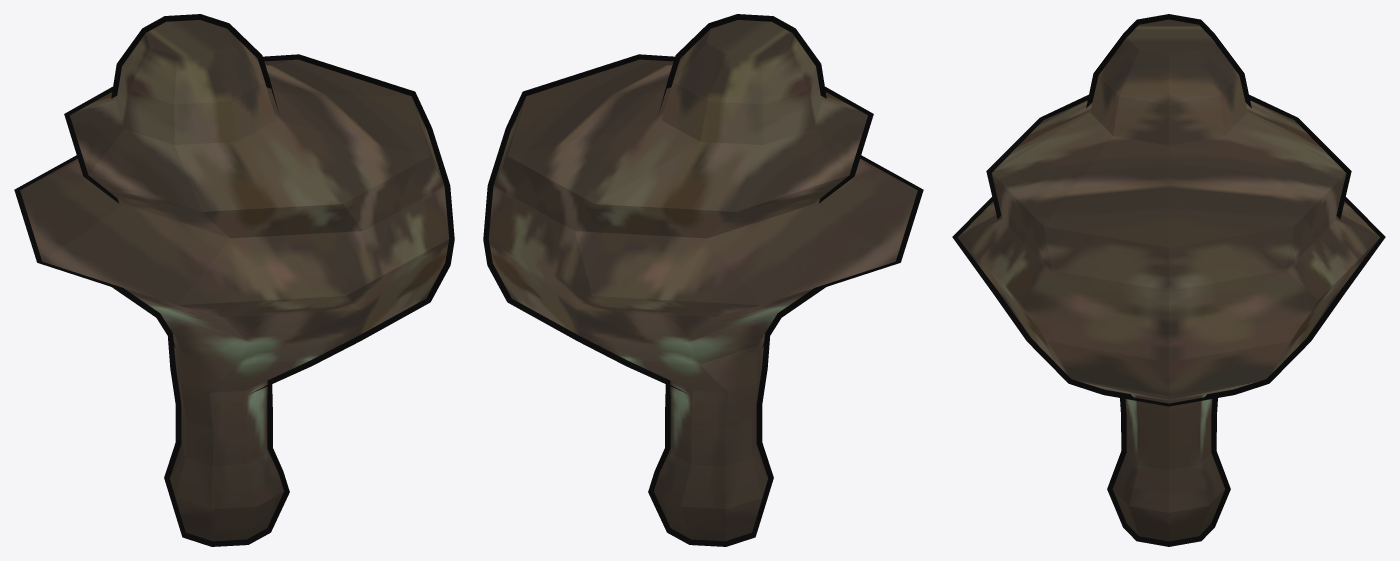
The model's file is Plant_Plant_Witchwood_Things_Plant_Witchwood_WitchwoodC.glb.
3 views of the same model, side by side, from view 1: azimuth 30°, elevation 25°; view 2: azimuth 150°, elevation 25°; view 3: azimuth 270°, elevation 25° (orthographic). The views are drawn at different scales.
Visible parts, largest first — view 1: Body, Outline; view 2: Body, Outline; view 3: Body, Outline.
Boxes of the visible parts, left/top/right/bottom form: Body: left=20, top=20, right=449, bottom=541; Outline: left=14, top=14, right=454, bottom=546; Body: left=488, top=20, right=917, bottom=541; Outline: left=483, top=14, right=923, bottom=546; Body: left=958, top=19, right=1379, bottom=541; Outline: left=952, top=14, right=1385, bottom=546.
Bounding box in the file's own units: 0.6016 × 0.7344 × 0.6014.
2 materials, 1 textured.
